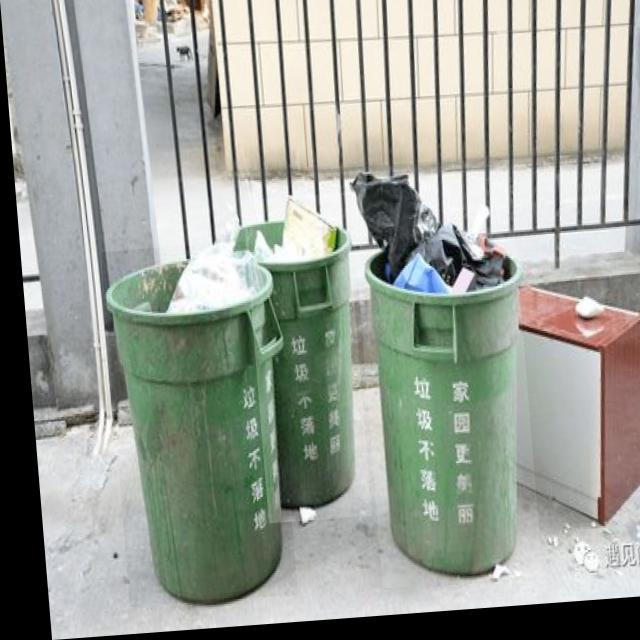overflow: (345, 165, 532, 594), (96, 243, 288, 608), (239, 198, 362, 527)
